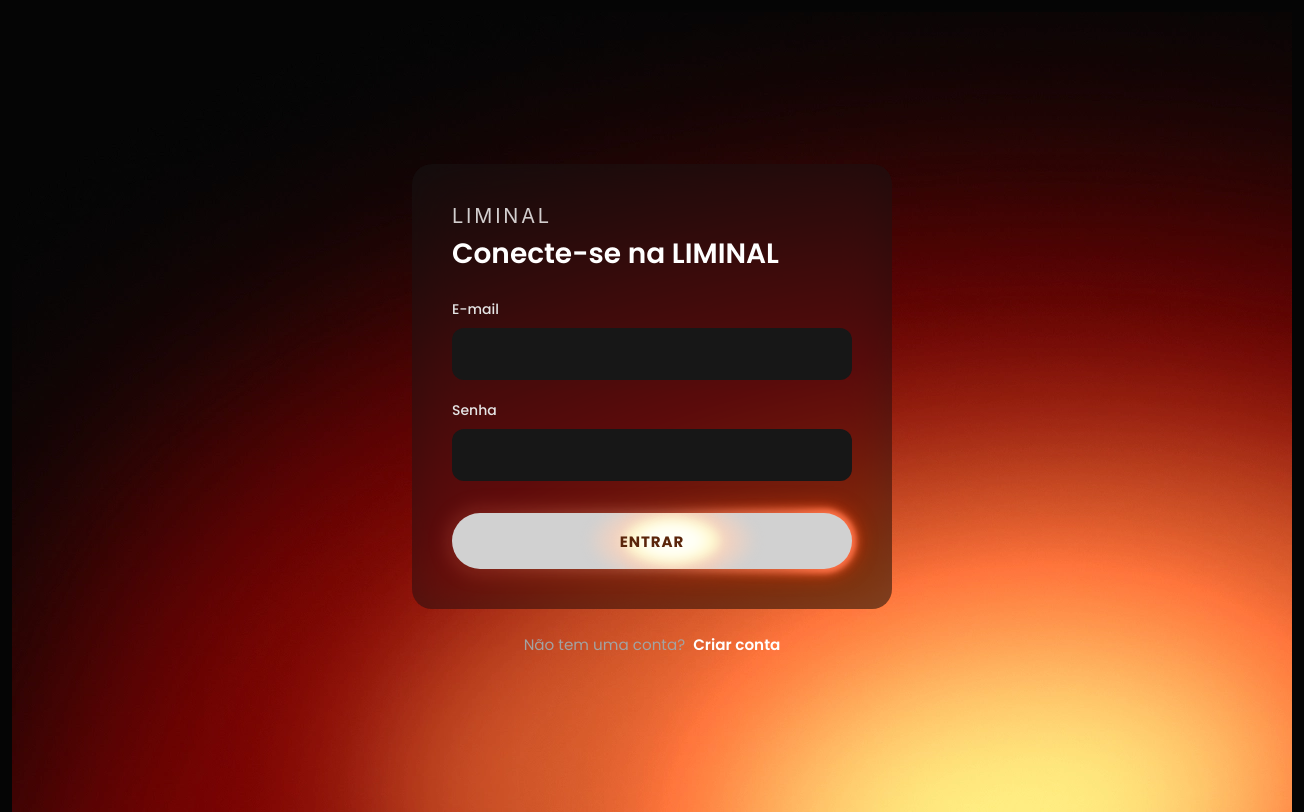
Test case: PaginaAcessoEstudante › preenche o acesso com o e-mail após cadastro bem-sucedido do double
Click the button "Criar conta": (735, 644) x1=689 y1=633 x2=780 y2=656
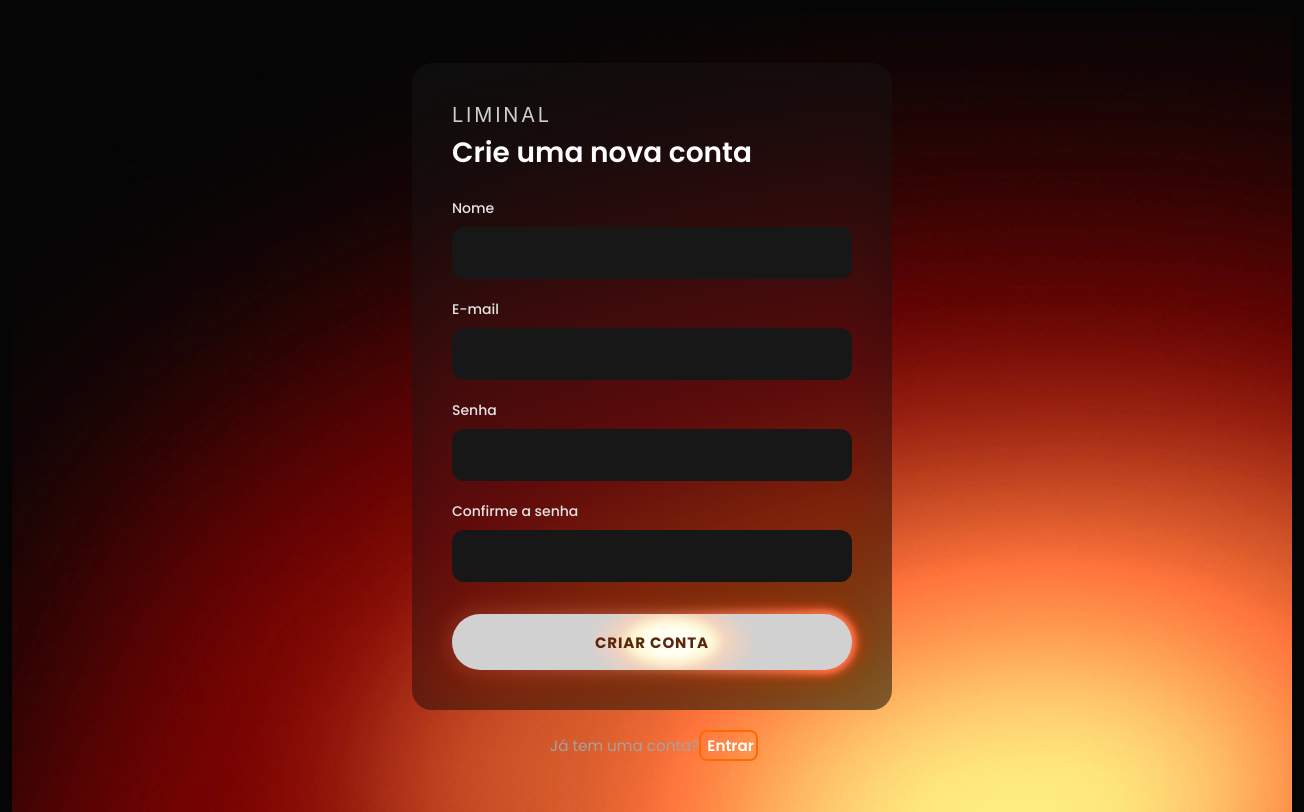
In the field labelled "Nome": (652, 253) x1=452 y1=227 x2=852 y2=279, type "Ana Estudante"
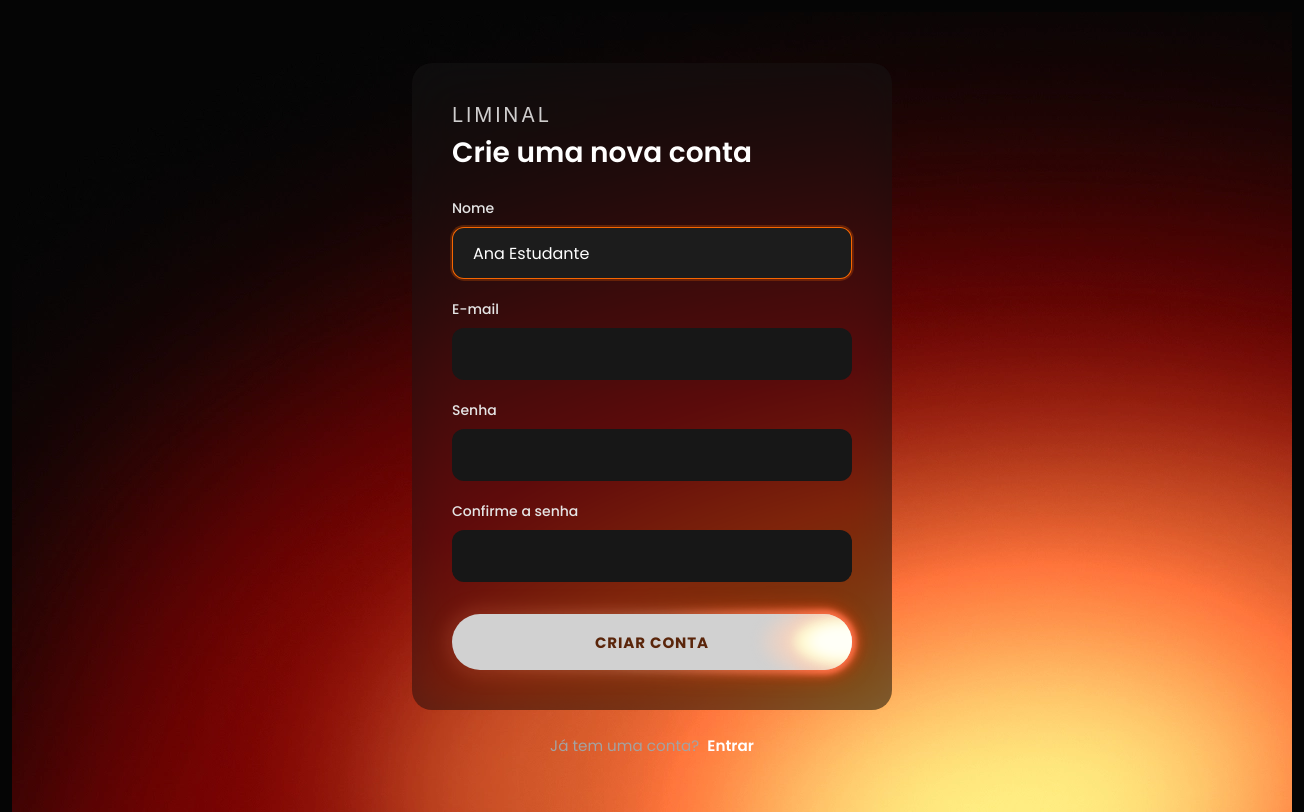
In the field labelled "E-mail": (652, 354) x1=452 y1=328 x2=852 y2=380, type "ana@fatec.sp.gov.br"
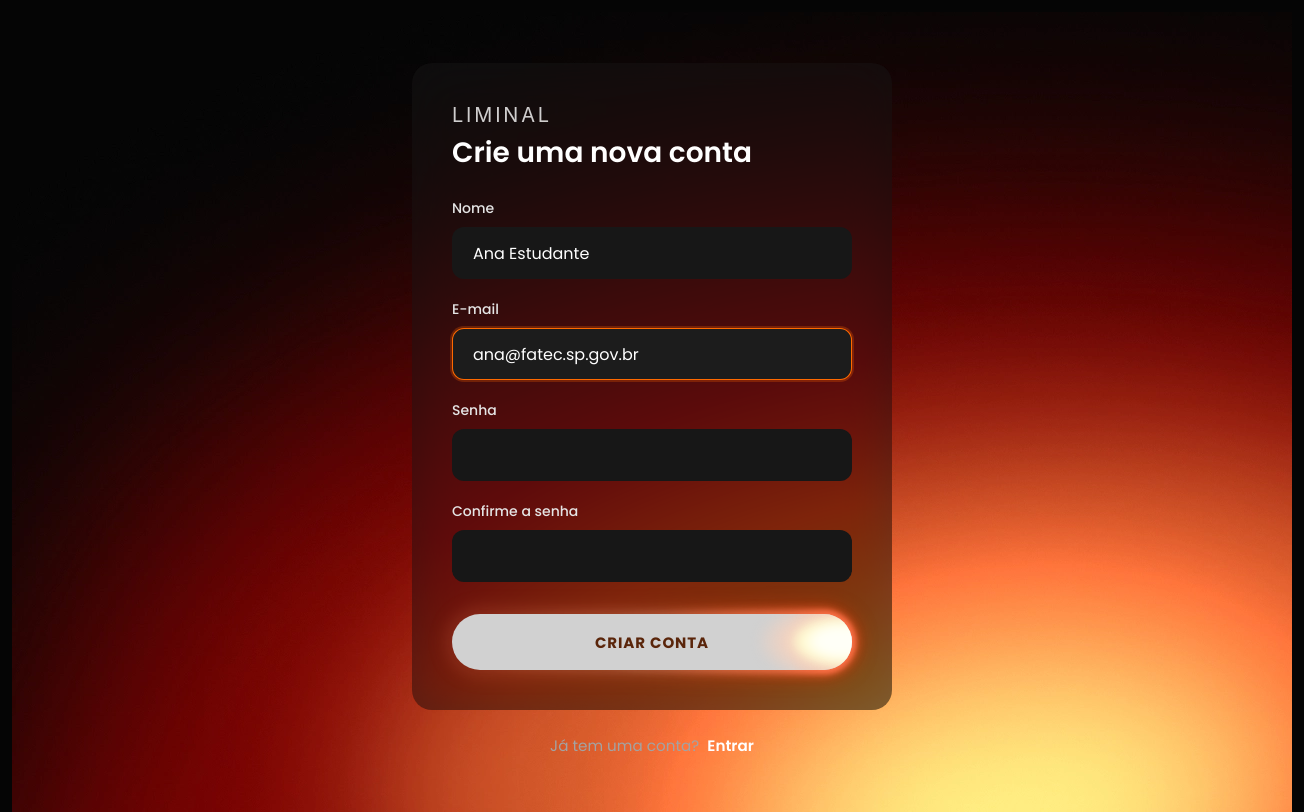
In the password field labelled "Senha": (652, 455) x1=452 y1=429 x2=852 y2=481, type "segredo123"
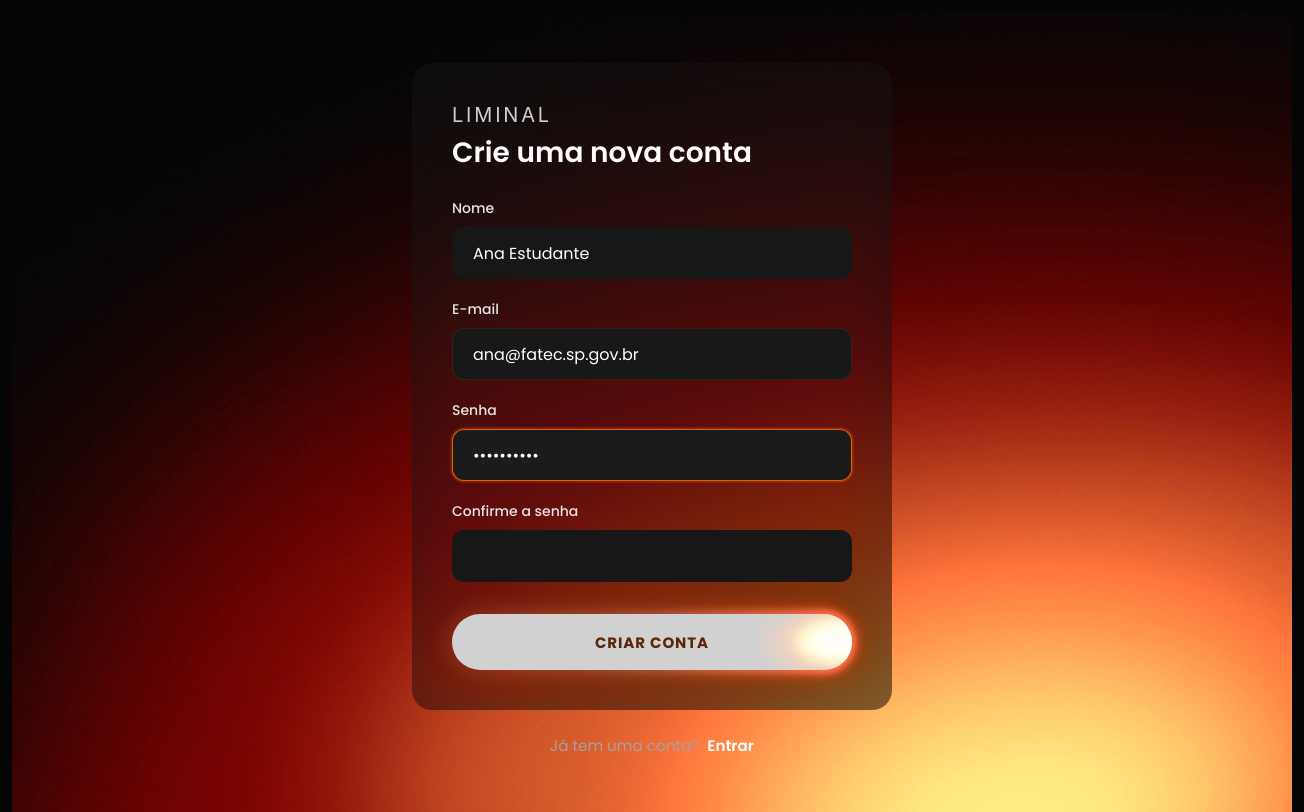
In the password field labelled "Confirme a senha": (652, 556) x1=452 y1=530 x2=852 y2=582, type "segredo123"
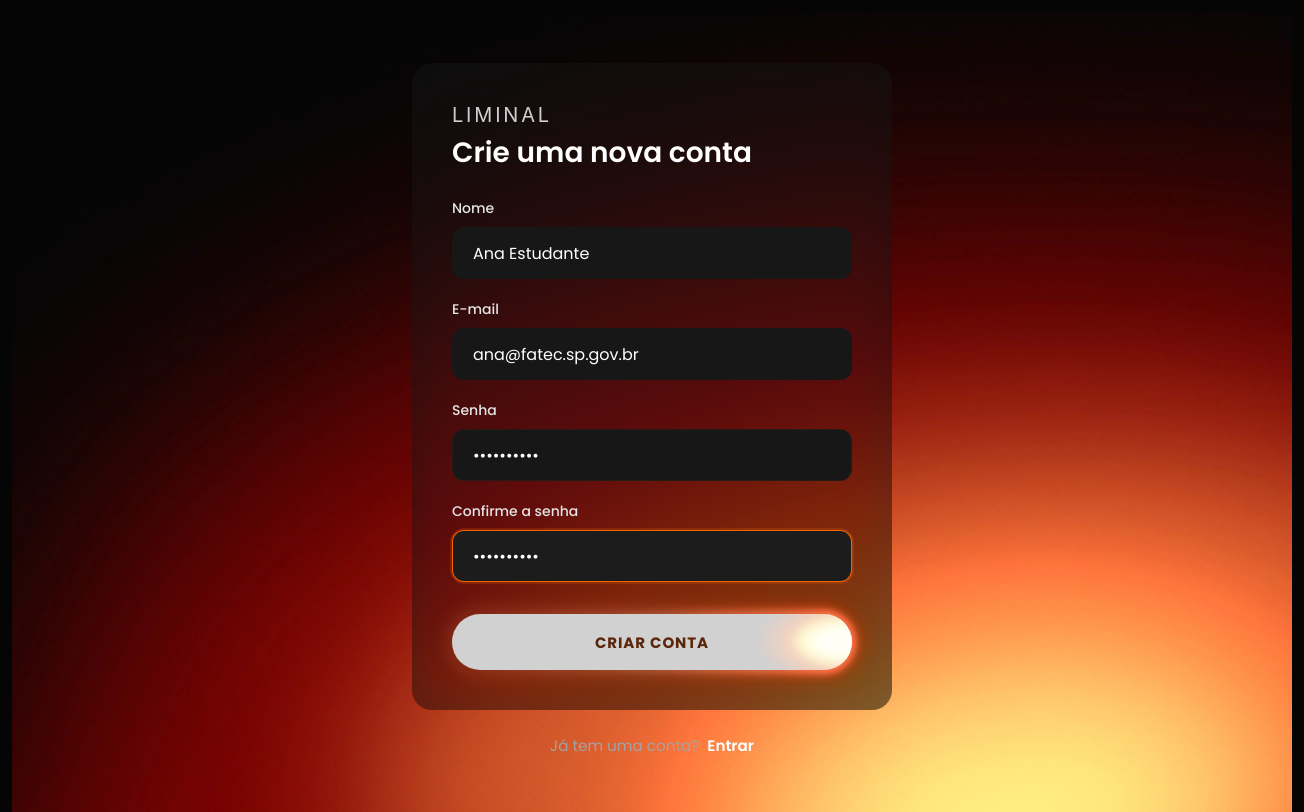
Click the button "Criar conta": (652, 642) x1=452 y1=614 x2=852 y2=670
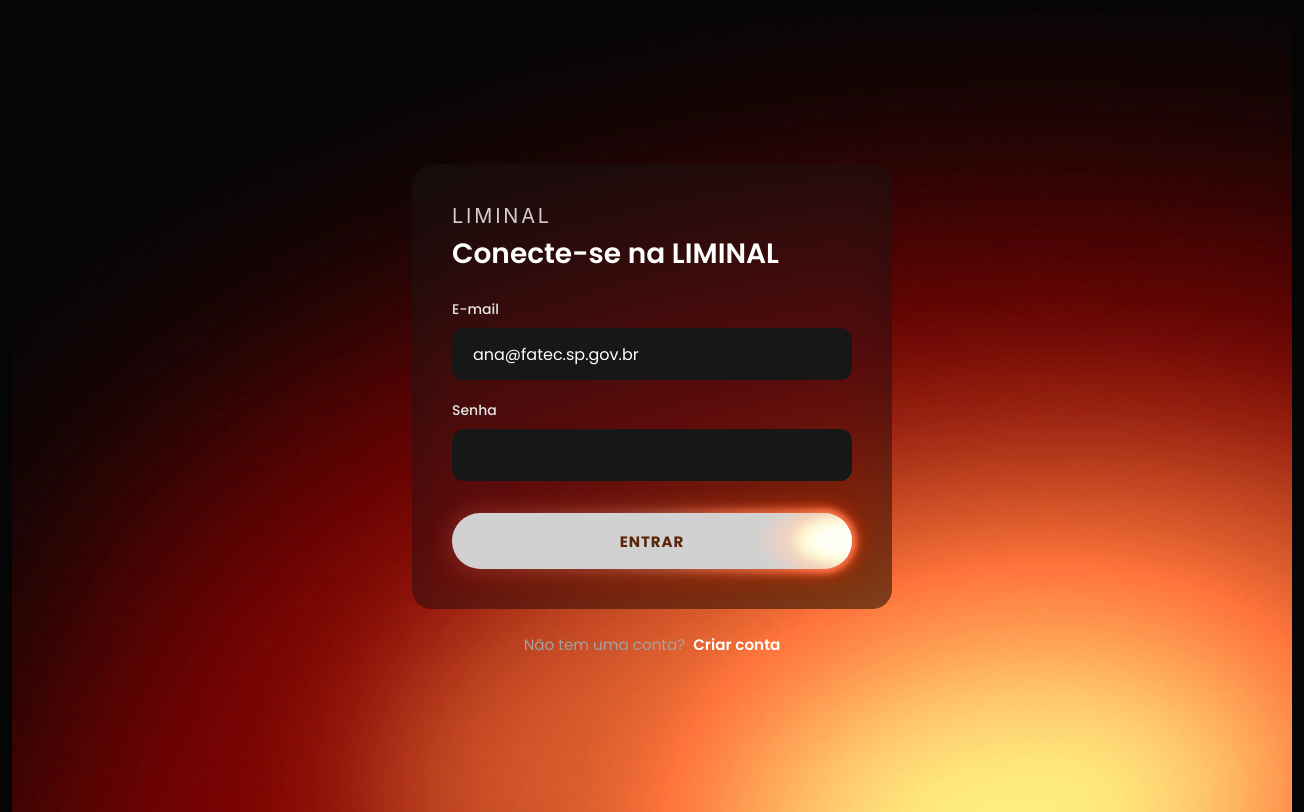
Expected: the heading "Conecte-se na LIMINAL" is shown, x1=452 y1=234 x2=779 y2=273
Expected: the button "Entrar" is shown, x1=452 y1=513 x2=852 y2=569
Expected: the password field labelled "Senha" is empty, x1=452 y1=429 x2=852 y2=481
